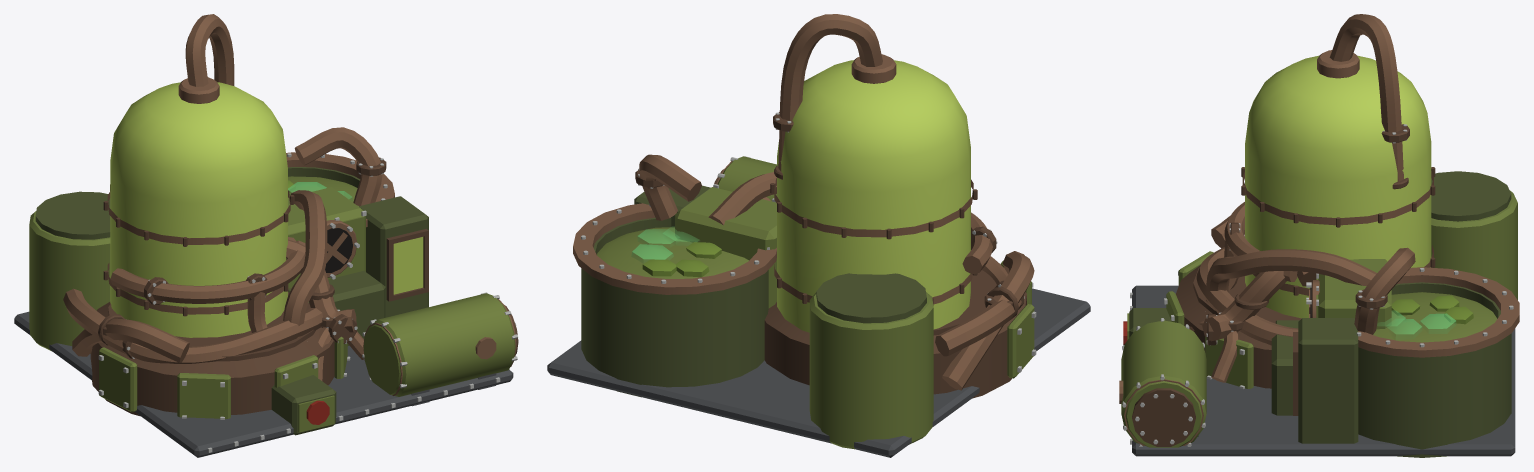
File: biochamber.glb
3 views of the same model, side by side, from view 1: azimuth 30°, elevation 25°; view 2: azimuth 150°, elevation 25°; view 3: azimuth 270°, elevation 25° (orthographic). The views are drawn at different scales.
Parts seen in each view (by area): view 1: body, anim_glow_biochamber; view 2: body, anim_glow_biochamber; view 3: body, anim_glow_biochamber.
Part boxes in pixels (box(x1,y1,x2,y2)): body: box(14, 14, 518, 457); anim_glow_biochamber: box(110, 82, 423, 337); body: box(547, 14, 1090, 457); anim_glow_biochamber: box(777, 60, 970, 332); body: box(1119, 14, 1519, 457); anim_glow_biochamber: box(1245, 55, 1431, 318).
Bounding box in the file's own units: 3.08 × 2.84 × 3.01.
